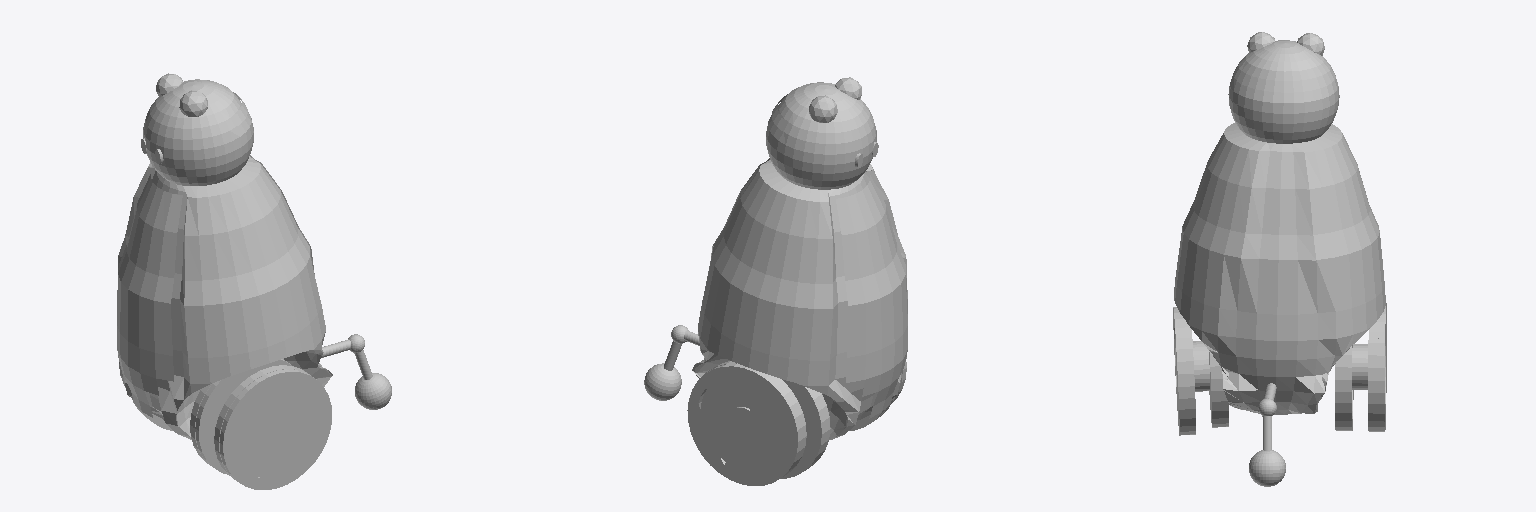
File: robot_ring.obj
3 renders of one model, left to right at view 1: azimuth 30°, elevation 25°; view 2: azimuth 150°, elevation 25°; view 3: azimuth 270°, elevation 25°, orthographic.
Parts seen in each view (by area): view 1: Cylinder.009_Cylinder.085, Cylinder.007_Cylinder.073, Cylinder.002_Cylinder.082, Cylinder.013_Cylinder.003; view 2: Cylinder.009_Cylinder.085, Wheel_part1.002_Cylinder.068, Cylinder.002_Cylinder.082, Cylinder.013_Cylinder.003; view 3: Cylinder.009_Cylinder.085, Cylinder.003_Cylinder.083, Cylinder.013_Cylinder.003, Wheel_part1.002_Cylinder.068, Cylinder.007_Cylinder.073, Cylinder.008_Cylinder.080.
Boxes of the visible parts, x1=… form: Cylinder.009_Cylinder.085: x1=118, y1=156, x2=391, y2=439; Cylinder.007_Cylinder.073: x1=190, y1=359, x2=331, y2=489; Cylinder.002_Cylinder.082: x1=117, y1=174, x2=182, y2=417; Cylinder.013_Cylinder.003: x1=143, y1=73, x2=253, y2=185; Cylinder.009_Cylinder.085: x1=644, y1=160, x2=907, y2=439; Wheel_part1.002_Cylinder.068: x1=687, y1=361, x2=830, y2=485; Cylinder.002_Cylinder.082: x1=836, y1=175, x2=907, y2=418; Cylinder.013_Cylinder.003: x1=766, y1=77, x2=876, y2=189; Cylinder.009_Cylinder.085: x1=1174, y1=122, x2=1385, y2=486; Cylinder.003_Cylinder.083: x1=1237, y1=152, x2=1317, y2=314; Cylinder.013_Cylinder.003: x1=1228, y1=32, x2=1339, y2=143; Wheel_part1.002_Cylinder.068: x1=1335, y1=303, x2=1386, y2=431; Cylinder.007_Cylinder.073: x1=1173, y1=307, x2=1228, y2=435; Cylinder.008_Cylinder.080: x1=1237, y1=72, x2=1330, y2=92.
Bounding box in the file's own units: 2.75 × 3.89 × 2.